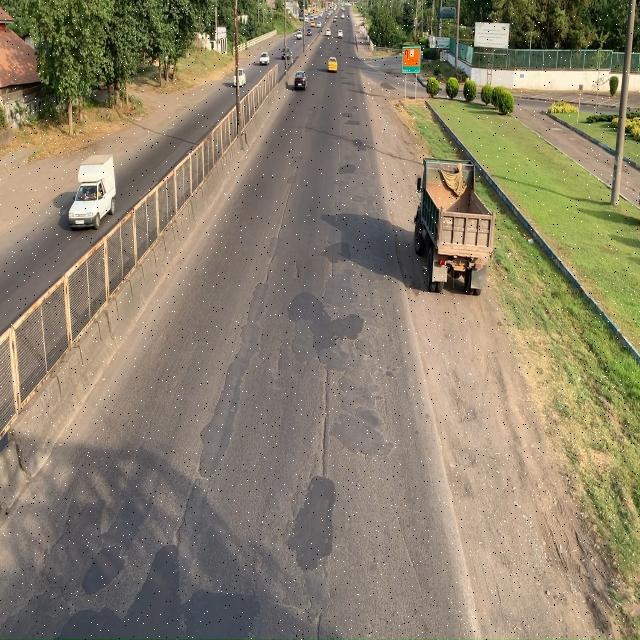Truck: (413, 154, 497, 294)
cars: (68, 156, 114, 229)
